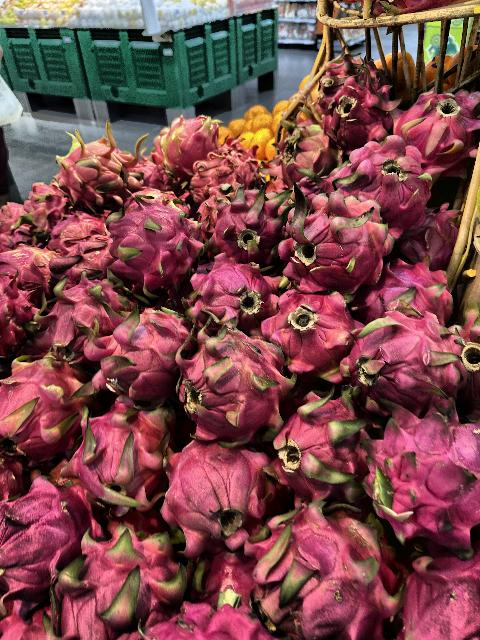buah-naga-belum-matang: (278, 191, 393, 289), (0, 354, 82, 458), (45, 134, 152, 206), (1, 244, 57, 336), (150, 116, 218, 168), (182, 151, 256, 195), (53, 215, 109, 271), (276, 118, 328, 168)
buah-naga-matang: (244, 508, 404, 640), (40, 514, 186, 640), (362, 411, 480, 553), (173, 324, 303, 444), (154, 438, 278, 552), (0, 477, 102, 603), (329, 320, 459, 410), (74, 296, 184, 400), (63, 404, 168, 508), (96, 196, 200, 296), (267, 397, 369, 497), (336, 135, 438, 229), (180, 258, 292, 334), (366, 250, 456, 336), (265, 291, 361, 364), (393, 88, 479, 168), (34, 280, 120, 354), (192, 196, 278, 262), (313, 77, 396, 145)
